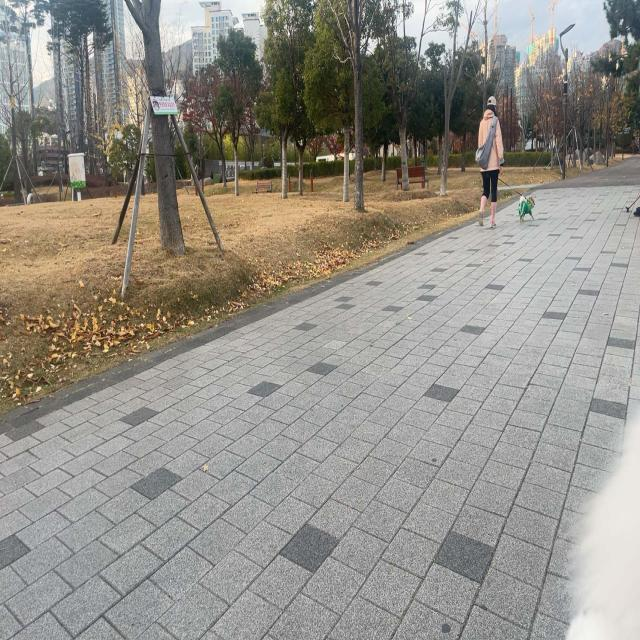Leashed_Dog: (491, 170, 535, 223)
